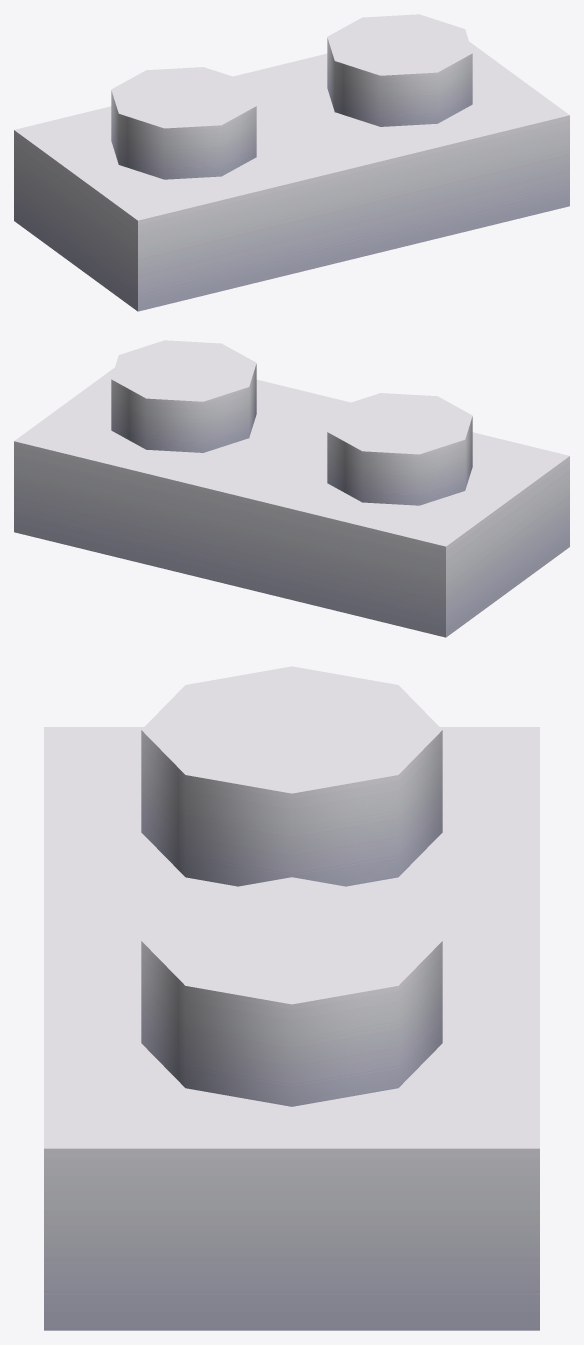
Rendered from round-lq-plate-1x2.glb.
The picture shows the model from 3 angles, top to bottom: view 1: azimuth 30°, elevation 25°; view 2: azimuth 150°, elevation 25°; view 3: azimuth 270°, elevation 25°; orthographic projection. The views are drawn at different scales.
Visible parts, largest first — view 1: round-lq-plate-1x2; view 2: round-lq-plate-1x2; view 3: round-lq-plate-1x2.
Part boxes in pixels (left/top/right/bottom): round-lq-plate-1x2: left=14, top=14, right=569, bottom=311; round-lq-plate-1x2: left=14, top=340, right=569, bottom=637; round-lq-plate-1x2: left=44, top=666, right=539, bottom=1330.
Size of the model in its own units: 0.159 by 0.05 by 0.079.
1 material, 1 textured.
